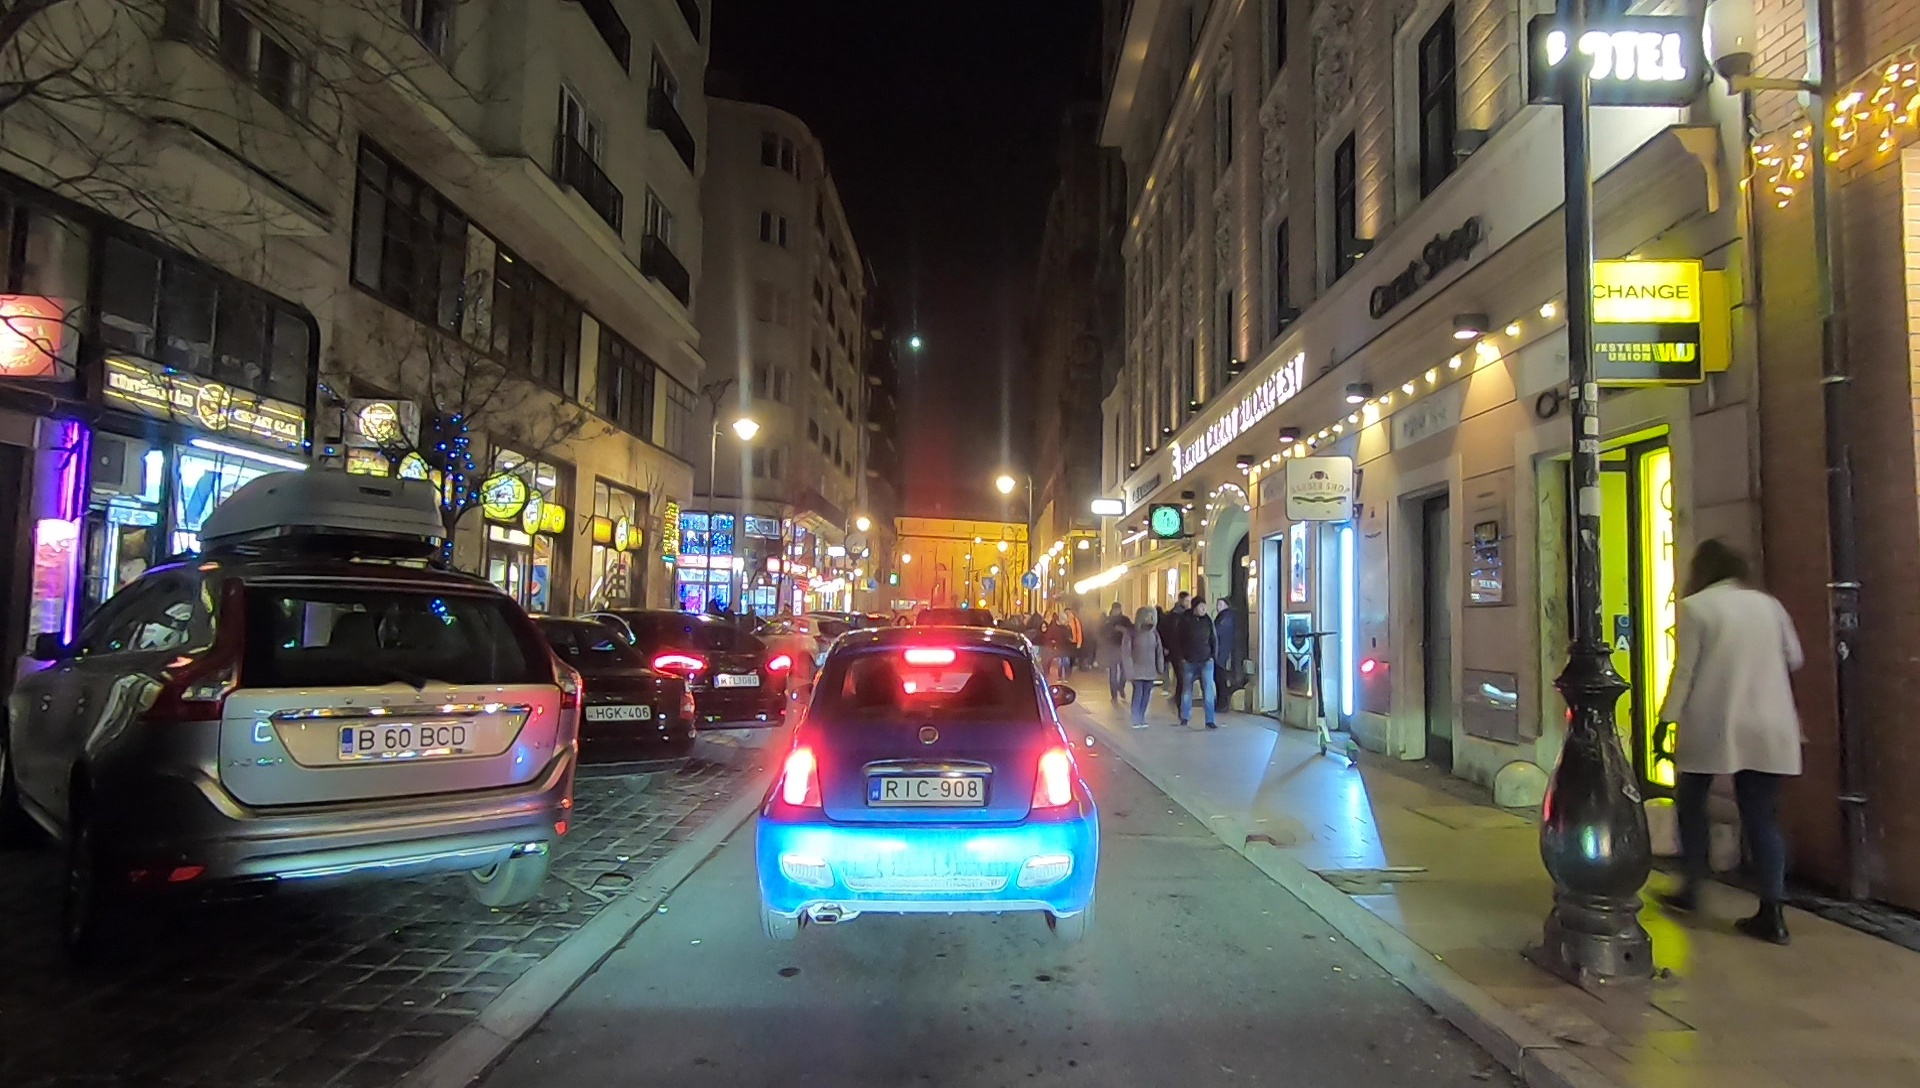person: (1649, 532, 1759, 938), (1179, 598, 1220, 728), (1127, 610, 1164, 730), (1165, 587, 1196, 708), (1103, 600, 1136, 702), (1212, 598, 1234, 712), (1061, 607, 1083, 673), (1052, 612, 1072, 681)
